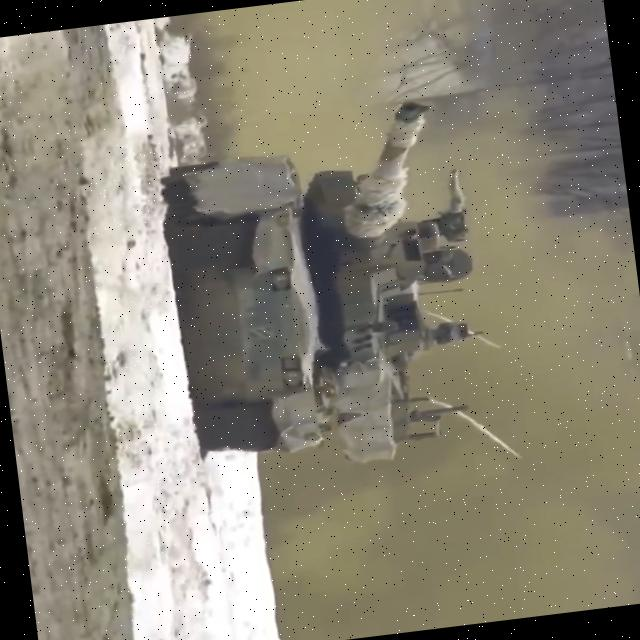korea tank: (149, 94, 498, 485)
